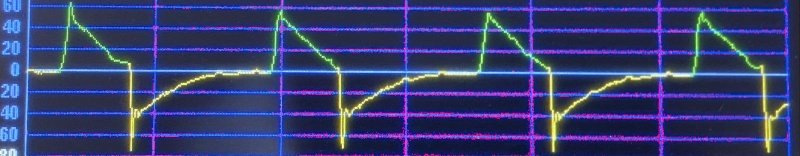normal_flow: (22, 1, 791, 156)
